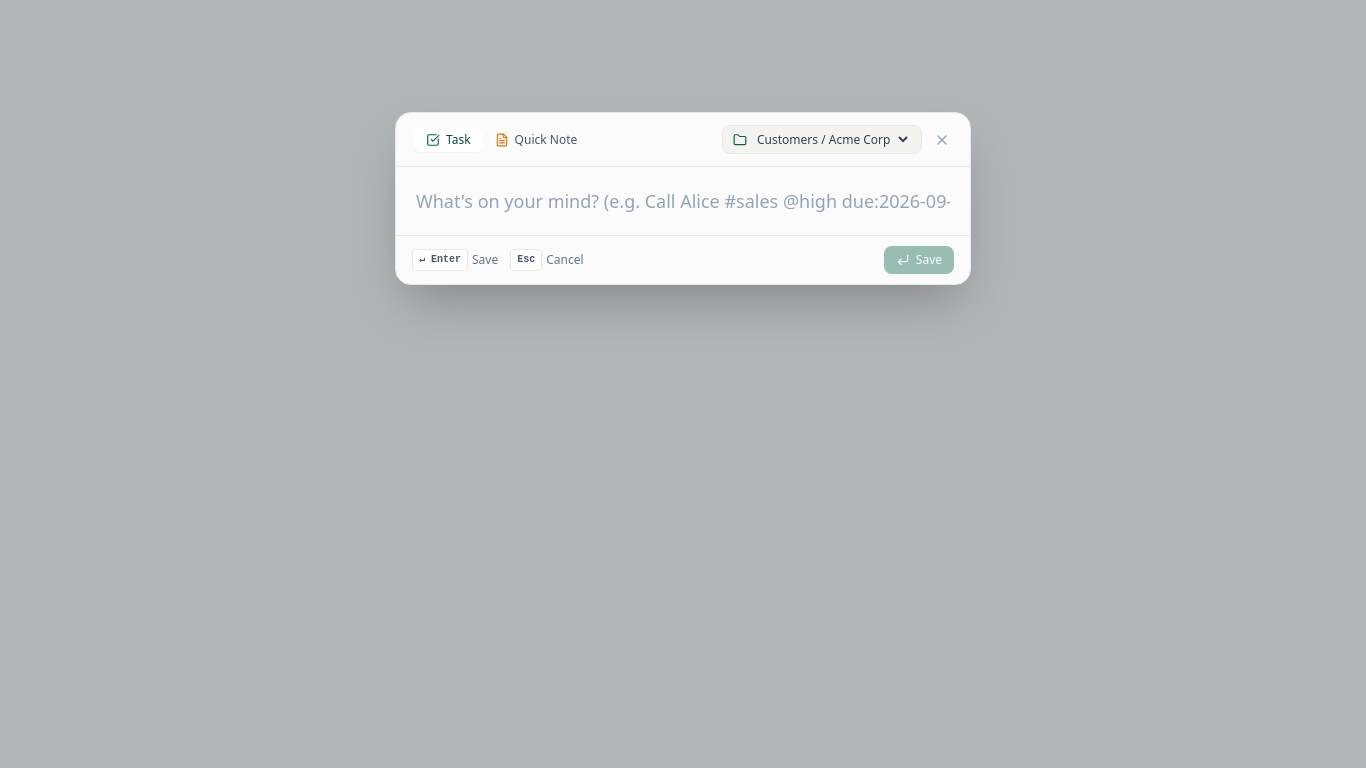
it: QuickCaptureModal Component › extracts tags, priority, and due date from natural language input
Replace the text in the field with placeholder "What's on your mind?" with "Prepare Q3 roadmap #planning #executive @high due:2026-09-01". click: point(683, 201)
box: [416, 187, 950, 215]
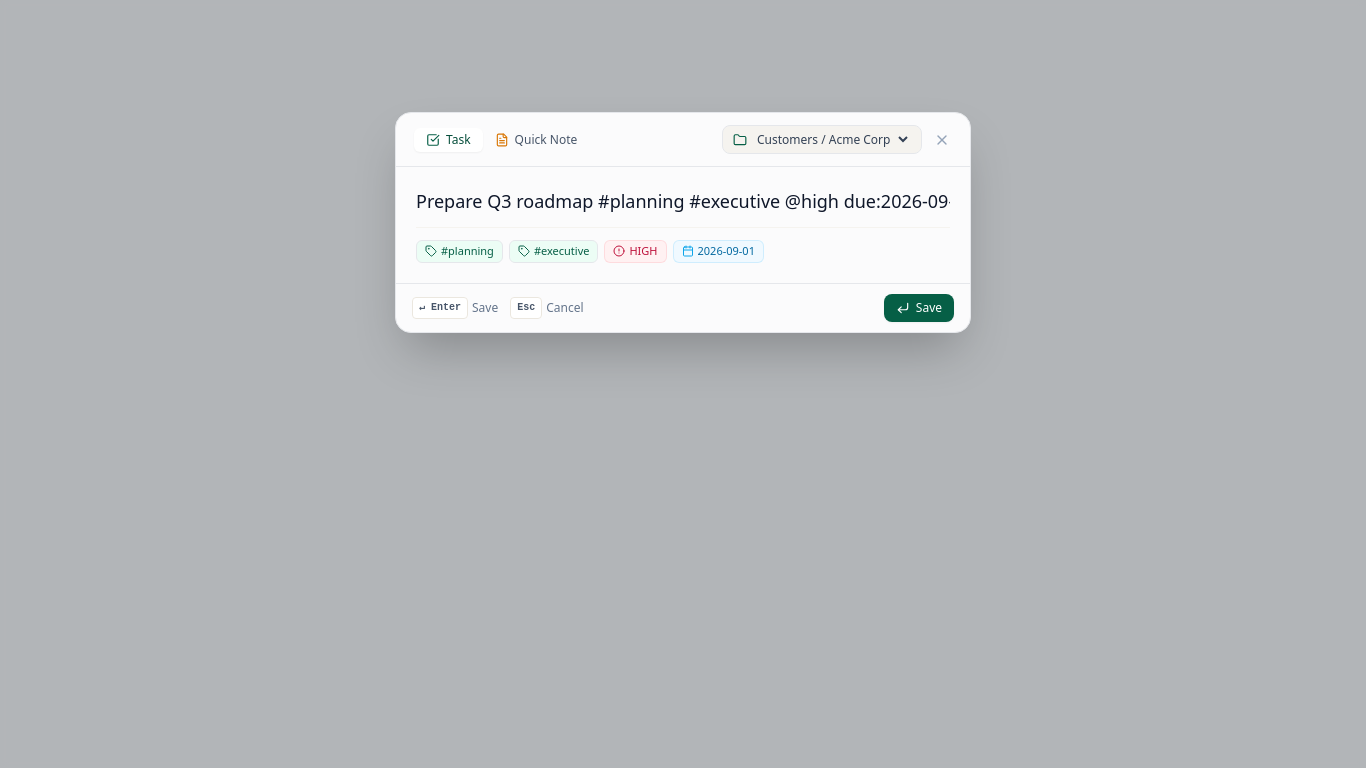
Now the text "#planning" is shown, box [416, 240, 503, 262]
Now the text "#executive" is shown, box [509, 240, 598, 262]
Now the text "HIGH" is shown, box [604, 240, 666, 262]
